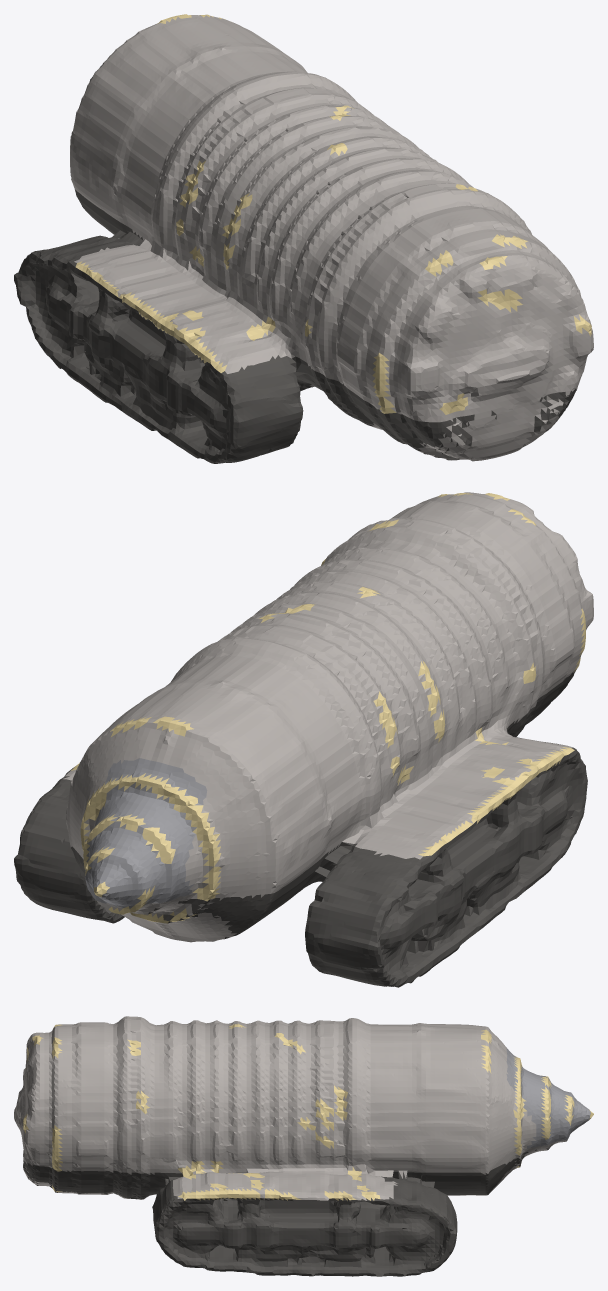
The model's file is unit_ashworm.glb.
3 renders of one model, top to bottom at view 1: azimuth 30°, elevation 25°; view 2: azimuth 150°, elevation 25°; view 3: azimuth 270°, elevation 25°, orthographic. The views are drawn at different scales.
Parts seen in each view (by area): view 1: Mesh_0.036; view 2: Mesh_0.036; view 3: Mesh_0.036.
Boxes of the visible parts, bbox=[...] form: Mesh_0.036: bbox=[14, 14, 593, 463]; Mesh_0.036: bbox=[14, 492, 593, 987]; Mesh_0.036: bbox=[14, 1016, 593, 1276].
Bounding box in the file's own units: 2.89 × 2.07 × 5.6.
